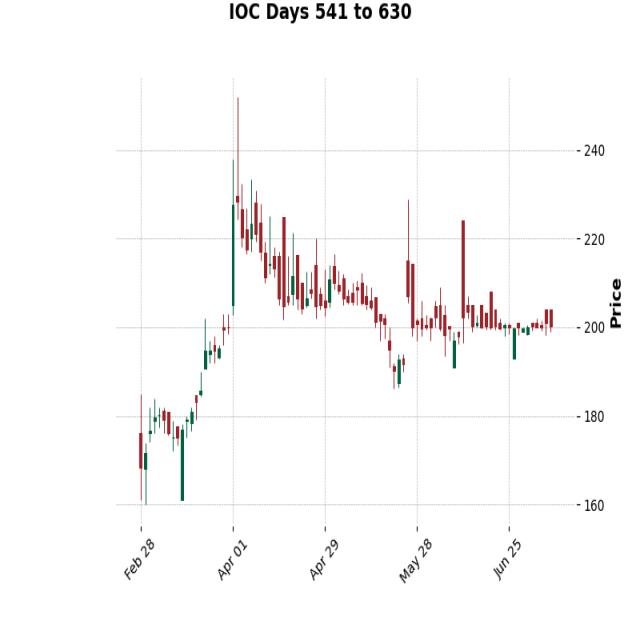Descending Triangle: (200, 81, 420, 391)
